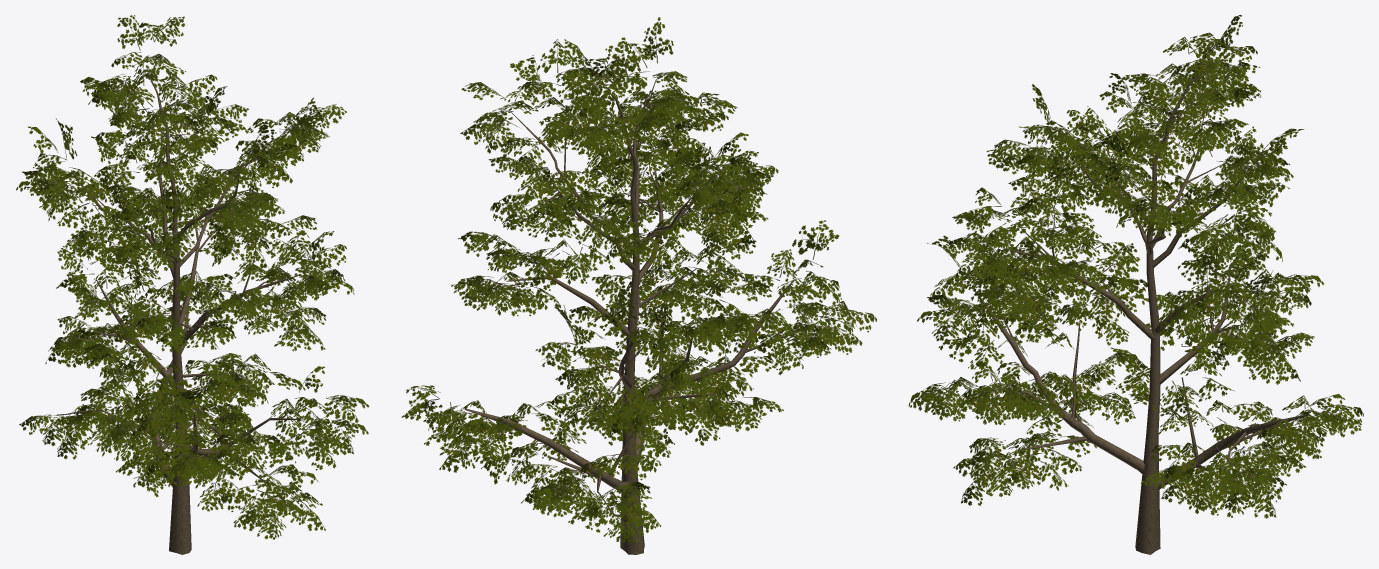
The model's file is tree_2.glb.
The picture shows the model from 3 angles, left to right: view 1: azimuth 30°, elevation 25°; view 2: azimuth 150°, elevation 25°; view 3: azimuth 270°, elevation 25°; orthographic projection. The views are drawn at different scales.
Parts seen in each view (by area): view 1: tree_2; view 2: tree_2; view 3: tree_2.
Part boxes in pixels (x1,y1,x2,y2): tree_2: [16, 15, 369, 554]; tree_2: [401, 17, 876, 554]; tree_2: [908, 15, 1363, 554].
Size of the model in its own units: 15.51 by 23.86 by 18.84.
2 materials, 2 textured.
